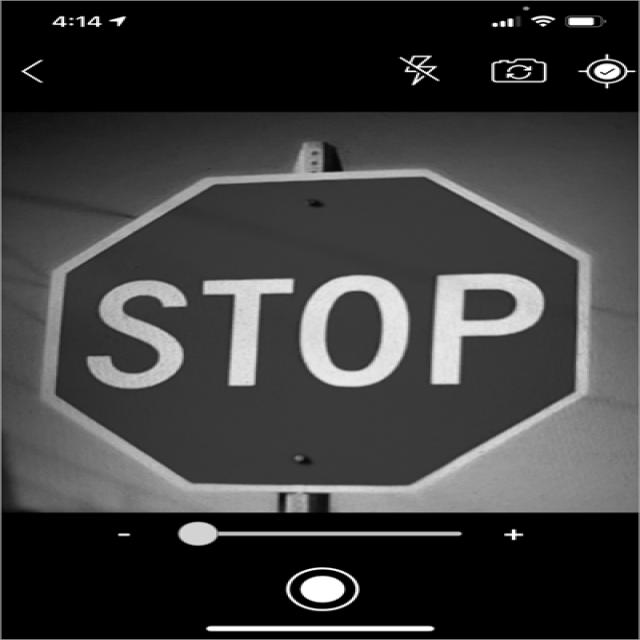let_go: (32, 171, 597, 498)
